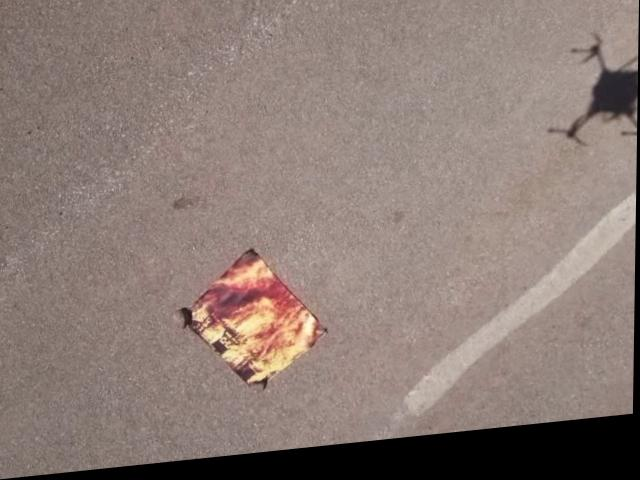fire-poster: (179, 246, 331, 405)
